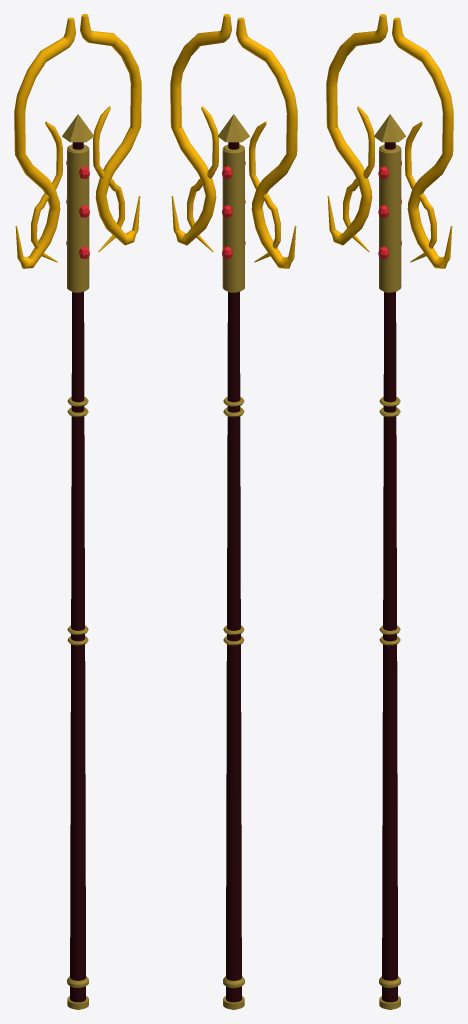
Rendered from baston magico .fbx.
The picture shows the model from 3 angles, left to right: view 1: azimuth 30°, elevation 25°; view 2: azimuth 150°, elevation 25°; view 3: azimuth 330°, elevation 25°; orthographic projection.
Visible parts, largest first — view 1: baston; view 2: baston; view 3: baston.
Part boxes in pixels (<box>): baston: <box>14,14,141,1009</box>; baston: <box>170,14,297,1009</box>; baston: <box>326,14,453,1009</box>.
Size of the model in its own units: 64.24 by 483 by 16.12.
